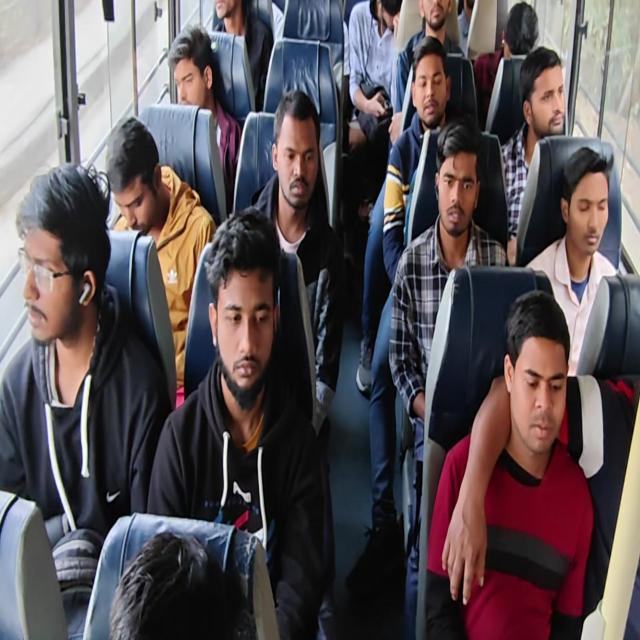person: (17, 176, 105, 340), (105, 539, 240, 640), (212, 222, 277, 396), (508, 304, 566, 445), (98, 118, 166, 227), (560, 153, 610, 266), (436, 125, 480, 233), (167, 26, 216, 113), (272, 110, 314, 204), (529, 57, 572, 141), (493, 8, 545, 72), (412, 54, 447, 116), (417, 0, 456, 35), (375, 0, 409, 38), (461, 0, 486, 28), (210, 0, 237, 21)
